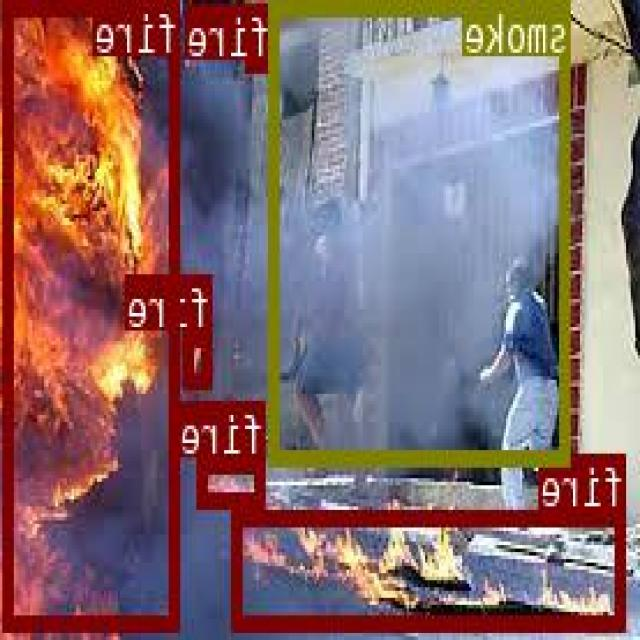fire: (6, 0, 181, 626), (234, 507, 627, 629), (199, 456, 267, 504), (247, 3, 273, 69), (186, 330, 213, 386)
smoke: (270, 0, 573, 461)
